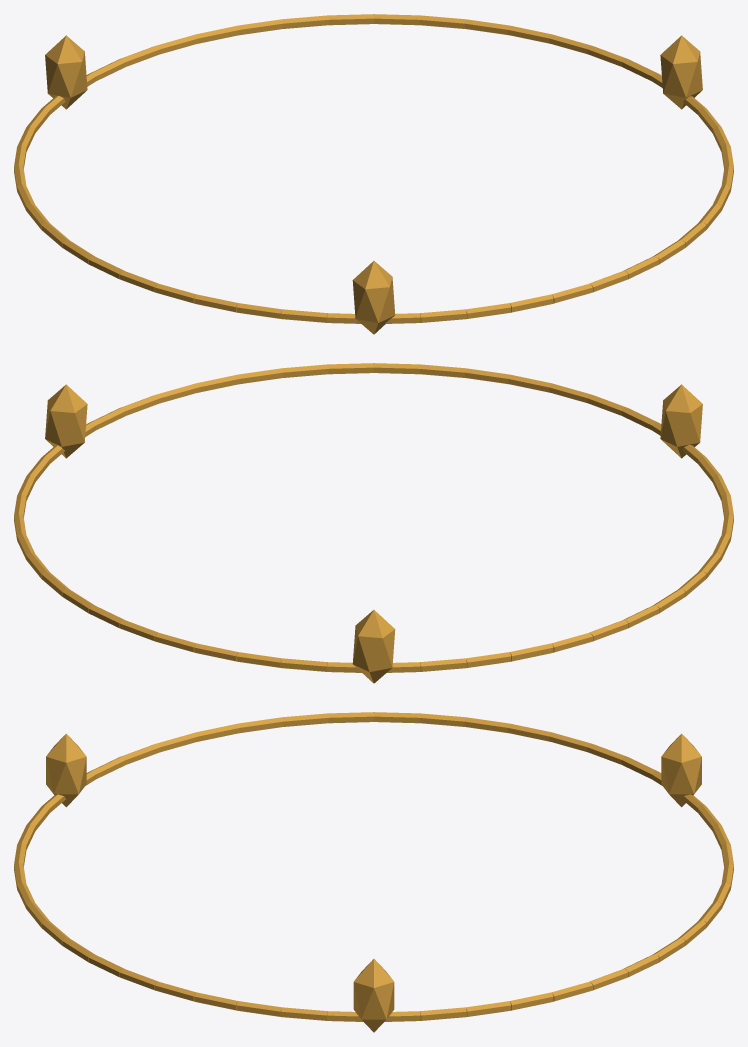
File: effect-orbit.glb
The picture shows the model from 3 angles, top to bottom: view 1: azimuth 30°, elevation 25°; view 2: azimuth 150°, elevation 25°; view 3: azimuth 270°, elevation 25°; orthographic projection.
Parts seen in each view (by area): view 1: effect-orbit_effect-orbit__root_mesh; view 2: effect-orbit_effect-orbit__root_mesh; view 3: effect-orbit_effect-orbit__root_mesh.
Part boxes in pixels (left/top/right/bottom): effect-orbit_effect-orbit__root_mesh: left=14, top=14, right=733, bottom=334; effect-orbit_effect-orbit__root_mesh: left=14, top=363, right=733, bottom=683; effect-orbit_effect-orbit__root_mesh: left=14, top=712, right=733, bottom=1032.
Bounding box in the file's own units: 1.08 × 0.12 × 1.05.
